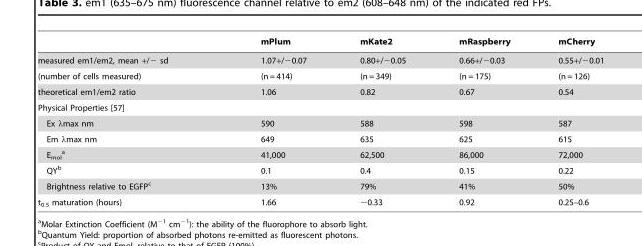table: (36, 36, 603, 207)
table column: (36, 36, 213, 207), (213, 36, 332, 207), (431, 36, 533, 207), (332, 36, 431, 207), (533, 36, 603, 207)
table column header: (36, 36, 603, 49)
table projected row header: (36, 99, 603, 115)
table row: (36, 49, 603, 68), (36, 145, 603, 162), (36, 83, 603, 99), (36, 99, 603, 115), (36, 115, 603, 131), (36, 177, 603, 193), (36, 68, 603, 83), (36, 162, 603, 177), (36, 131, 603, 145), (36, 193, 603, 207), (36, 36, 603, 49)
